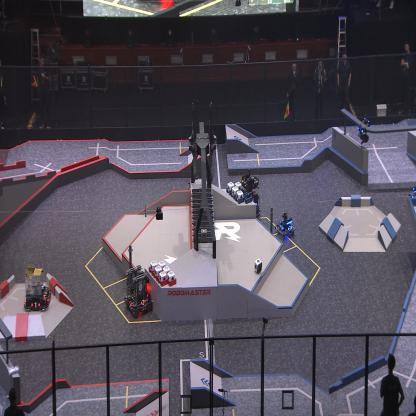car: (123, 264, 154, 315), (23, 264, 51, 312), (236, 169, 261, 219), (275, 210, 297, 241), (408, 177, 415, 205)
